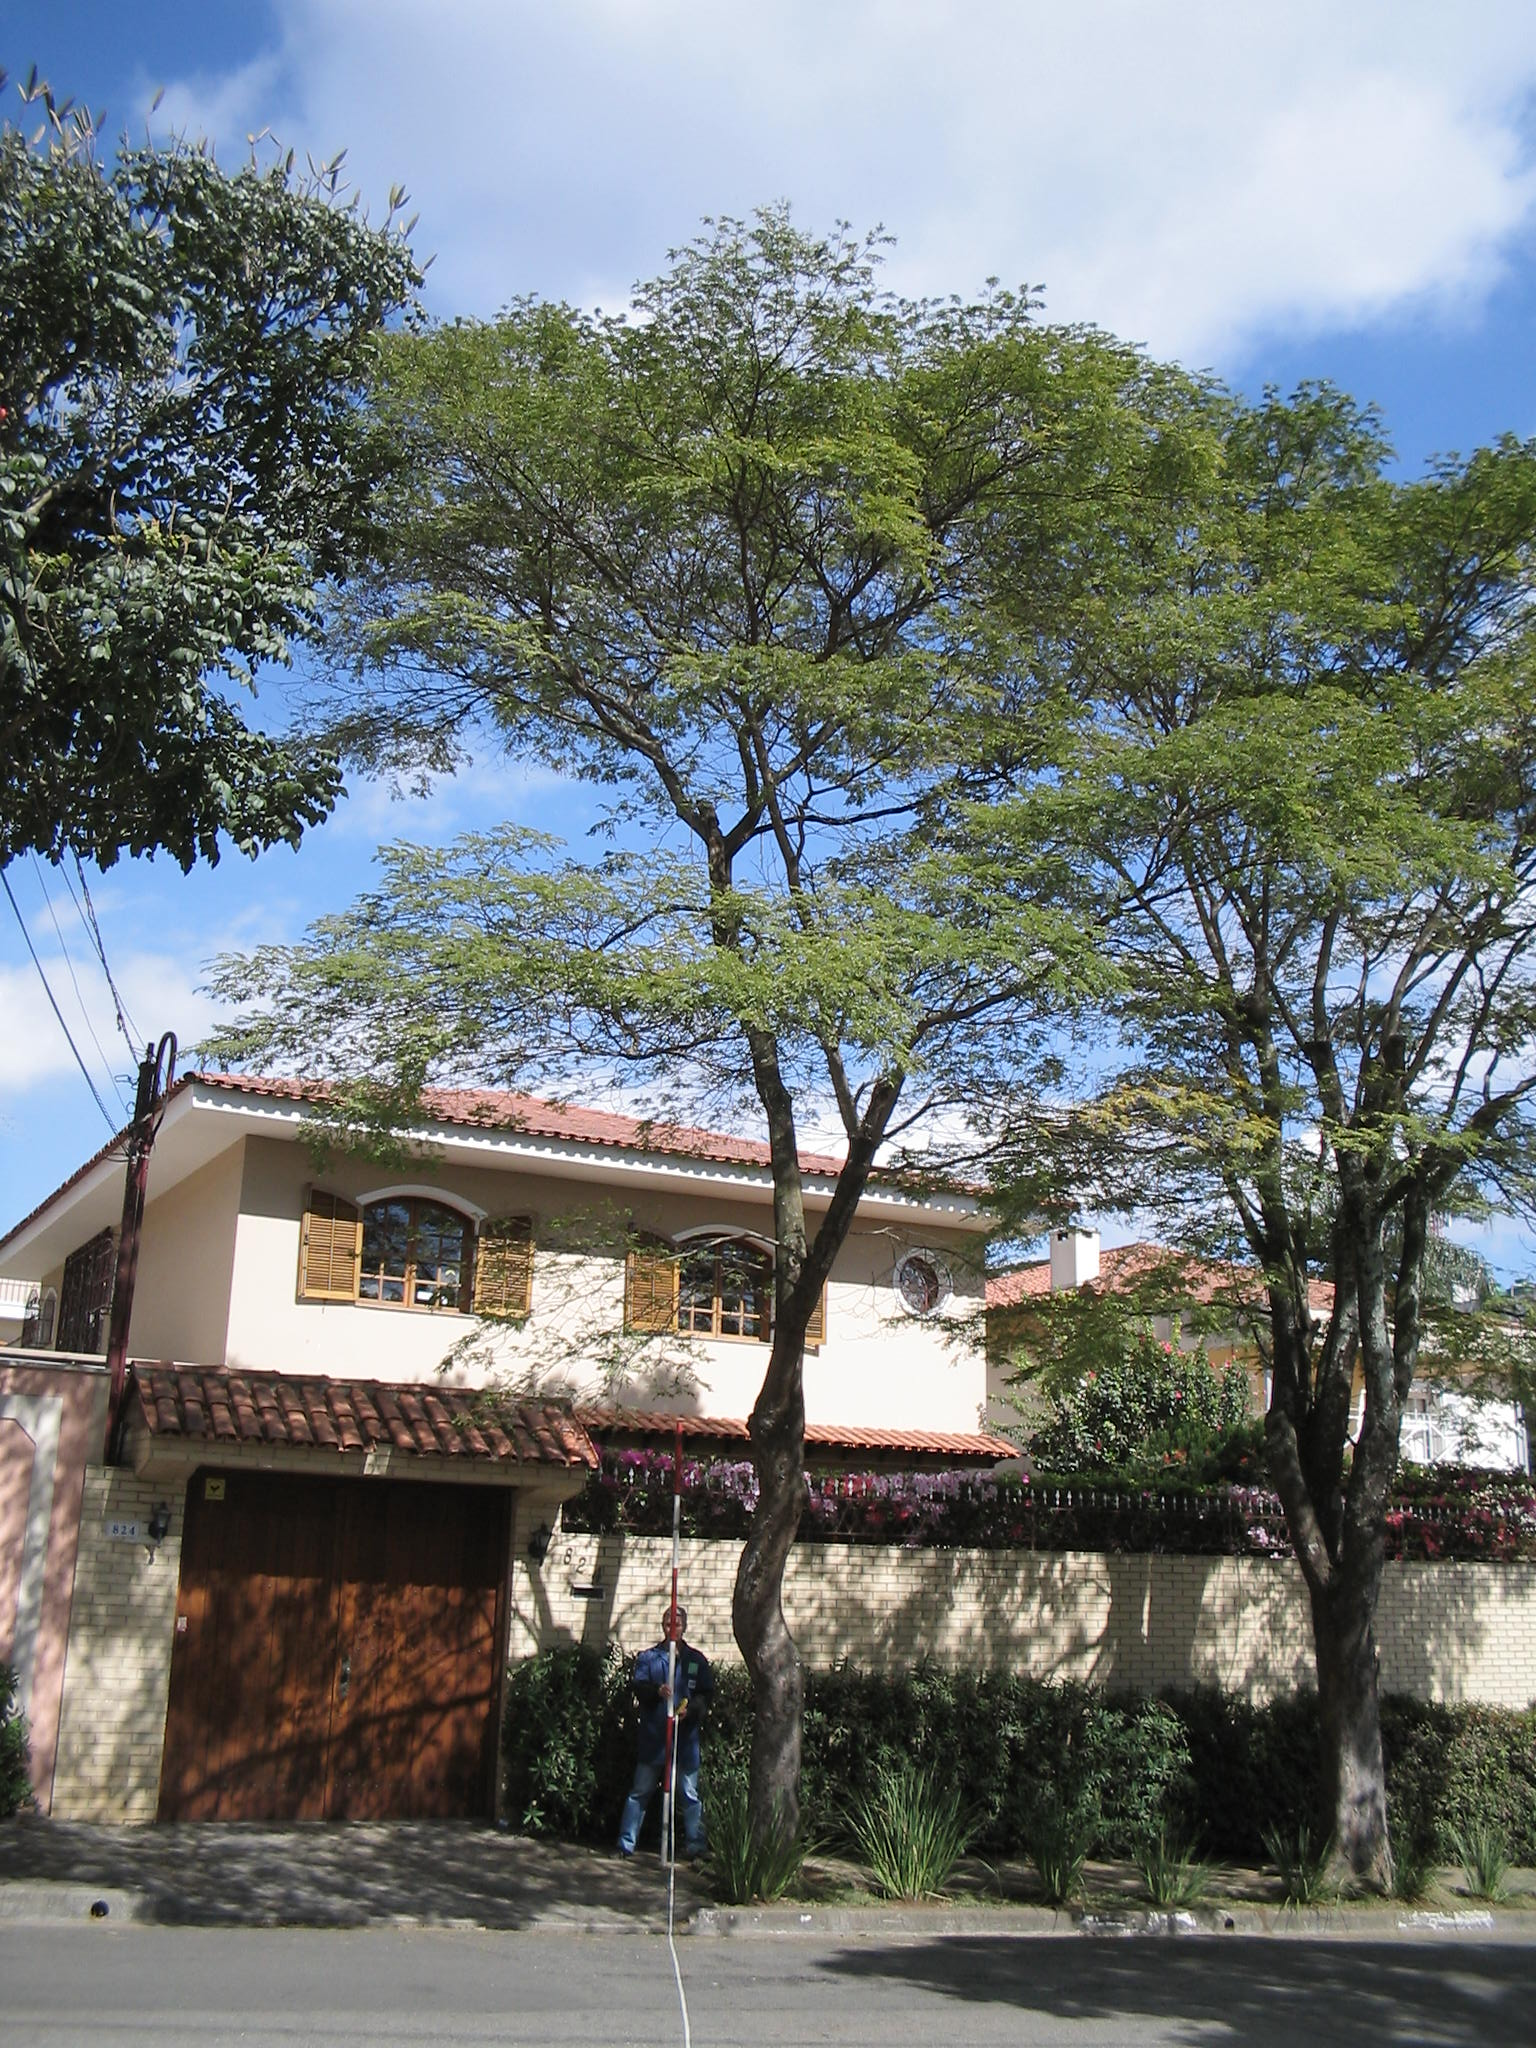crown: (340, 206, 1501, 1226), (958, 281, 1530, 1256)
stem: (716, 1330, 833, 1898), (1279, 1606, 1430, 1896)
stick: (649, 1417, 692, 1863)
tree: (328, 205, 1504, 1898), (962, 276, 1533, 1898)
